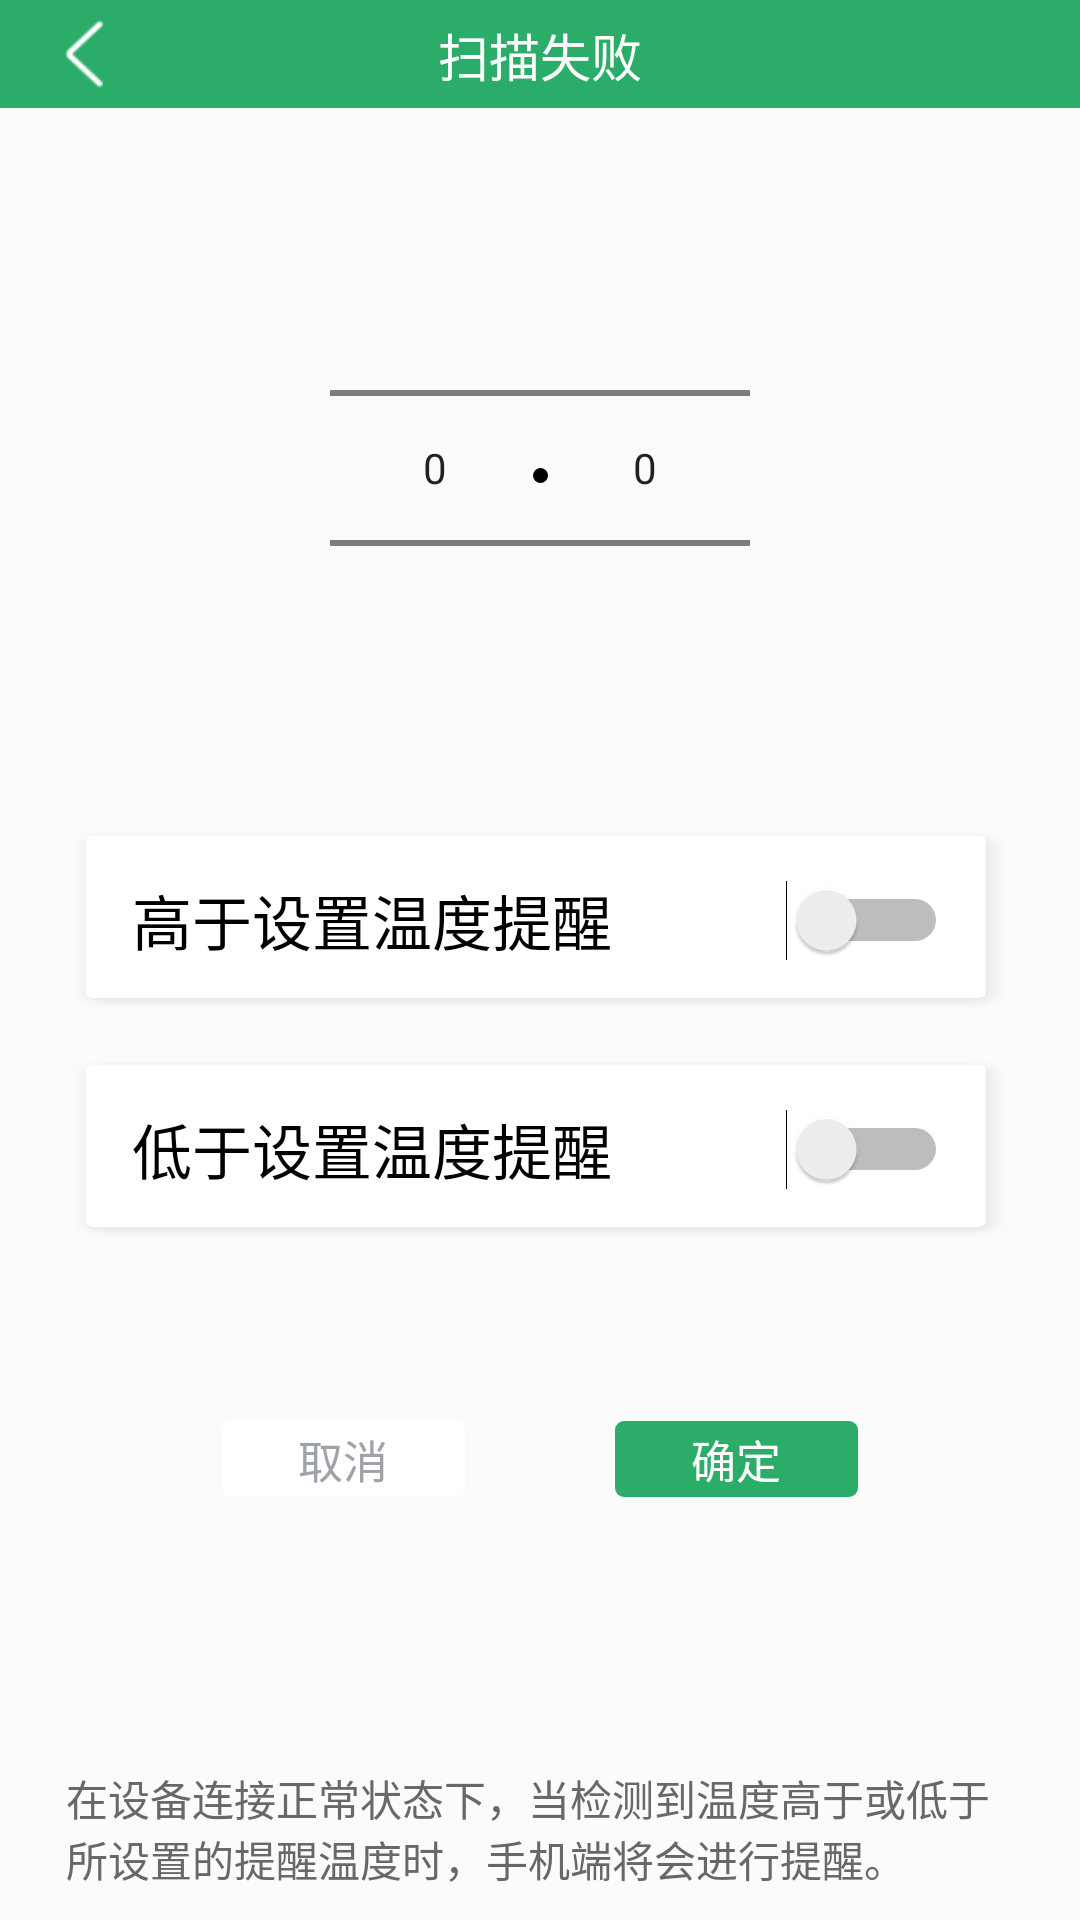

Icon click points for this 1080 x 1920 phone screenshot, format [x,y]:
back: [84,54]
